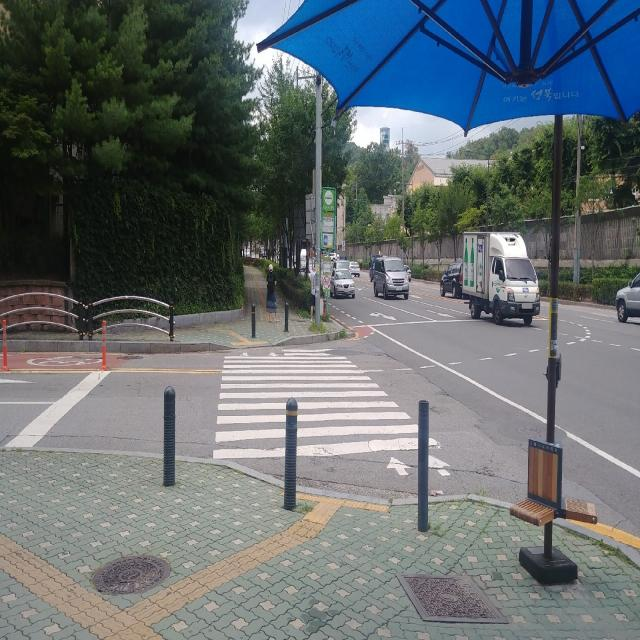횡단보도: (212, 348, 452, 479)
